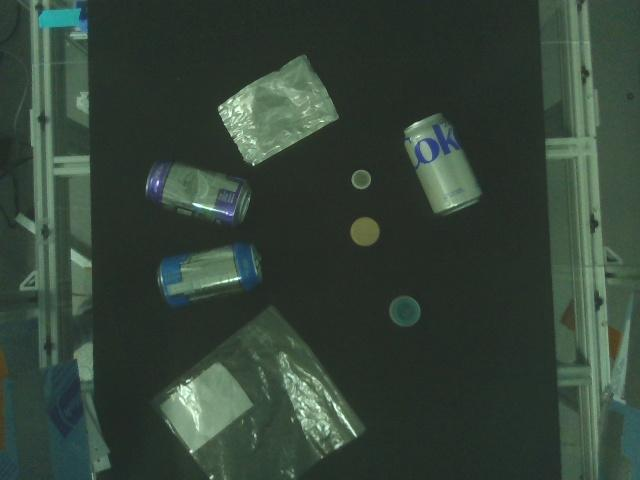metal: (400, 109, 485, 221), (143, 157, 253, 233), (155, 240, 265, 310)
plastic: (145, 300, 369, 480), (216, 51, 342, 169), (386, 293, 423, 330), (347, 213, 383, 249), (349, 166, 373, 193)
